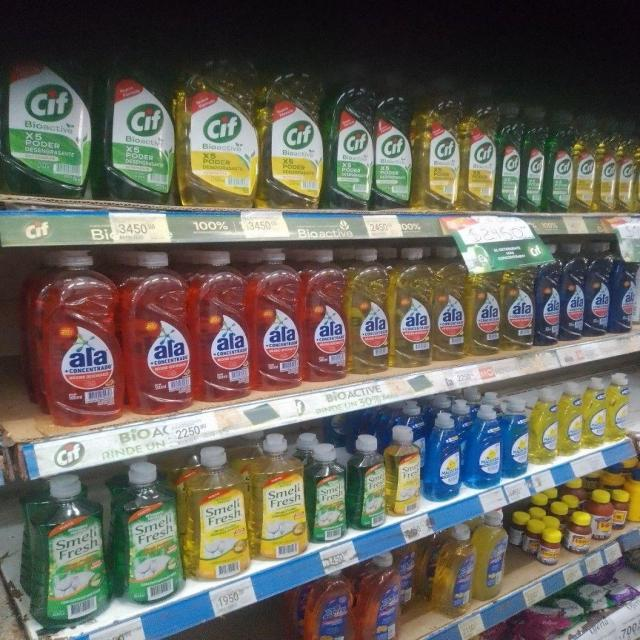ala_conc_amarillo: (348, 247, 390, 374), (391, 247, 431, 369), (433, 247, 466, 362), (467, 263, 501, 356), (502, 266, 534, 350)
ala_conc_azul: (561, 244, 586, 340), (586, 242, 611, 336), (536, 256, 560, 346), (612, 243, 635, 333)
ala_conc_rojo: (27, 250, 120, 426), (124, 250, 192, 415), (193, 250, 250, 403), (251, 248, 302, 392), (303, 248, 347, 383)
cif_conc_bot_amarilla: (178, 69, 258, 208), (260, 72, 324, 210), (416, 102, 460, 212), (462, 107, 496, 212), (573, 135, 596, 214), (617, 139, 635, 213)
cif_conc_botella_verde: (1, 61, 92, 198), (98, 68, 175, 204), (326, 81, 373, 211), (374, 89, 413, 211), (497, 108, 522, 213), (547, 112, 572, 214), (522, 109, 546, 213)
magistral_con_amarillo: (386, 424, 422, 517), (531, 388, 558, 465), (583, 376, 607, 448), (560, 382, 582, 457), (608, 372, 629, 442)
magistral_con_azul: (425, 410, 462, 502), (466, 402, 501, 489), (502, 398, 529, 479)
